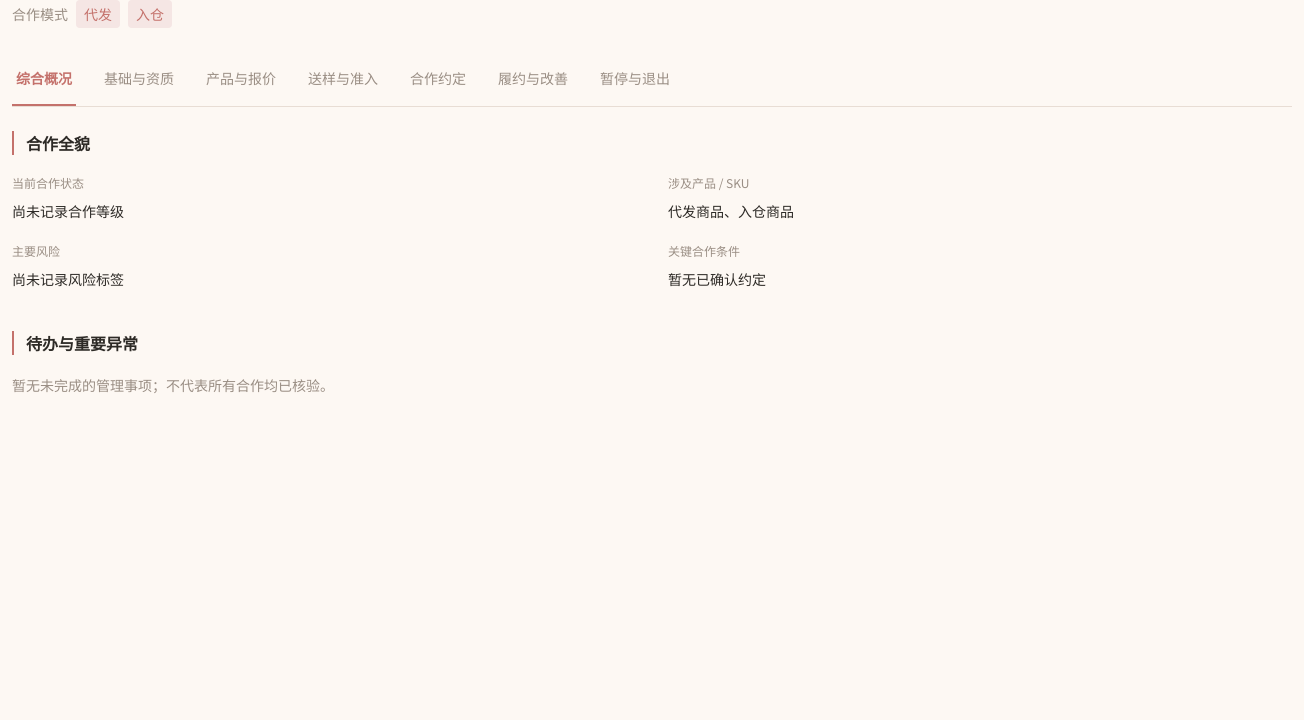
Test: derives and presents dropship and inbound cooperation on one supplier master
Expected: the text "代发" is shown, x1=76 y1=0 x2=120 y2=28
Expected: the text "入仓" is shown, x1=128 y1=0 x2=172 y2=28
Step 1. Click the button "履约与改善" → {"x": 533, "y": 79}, box x1=494 y1=52 x2=572 y2=106
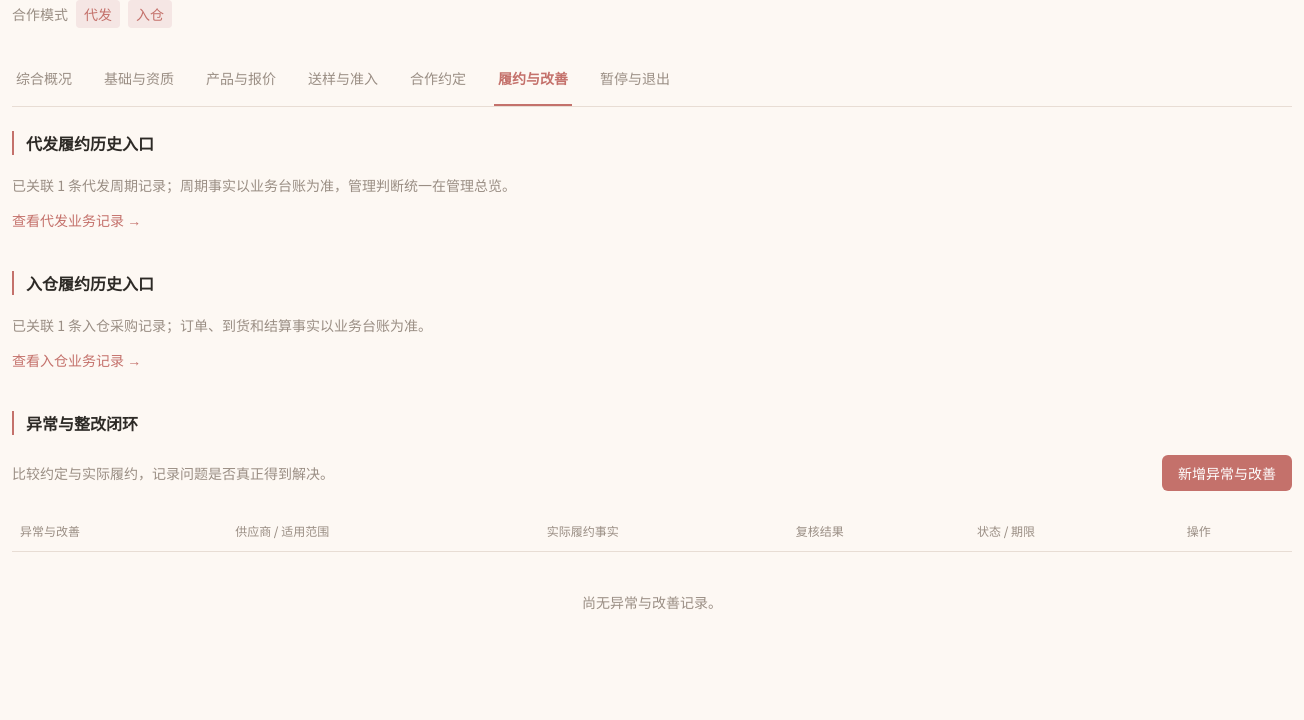
Result: the heading "代发履约历史入口" is shown at x1=12 y1=131 x2=154 y2=155
Result: the heading "入仓履约历史入口" is shown at x1=12 y1=271 x2=154 y2=295
Result: the link "查看代发业务记录 →" is shown at x1=12 y1=210 x2=141 y2=230
